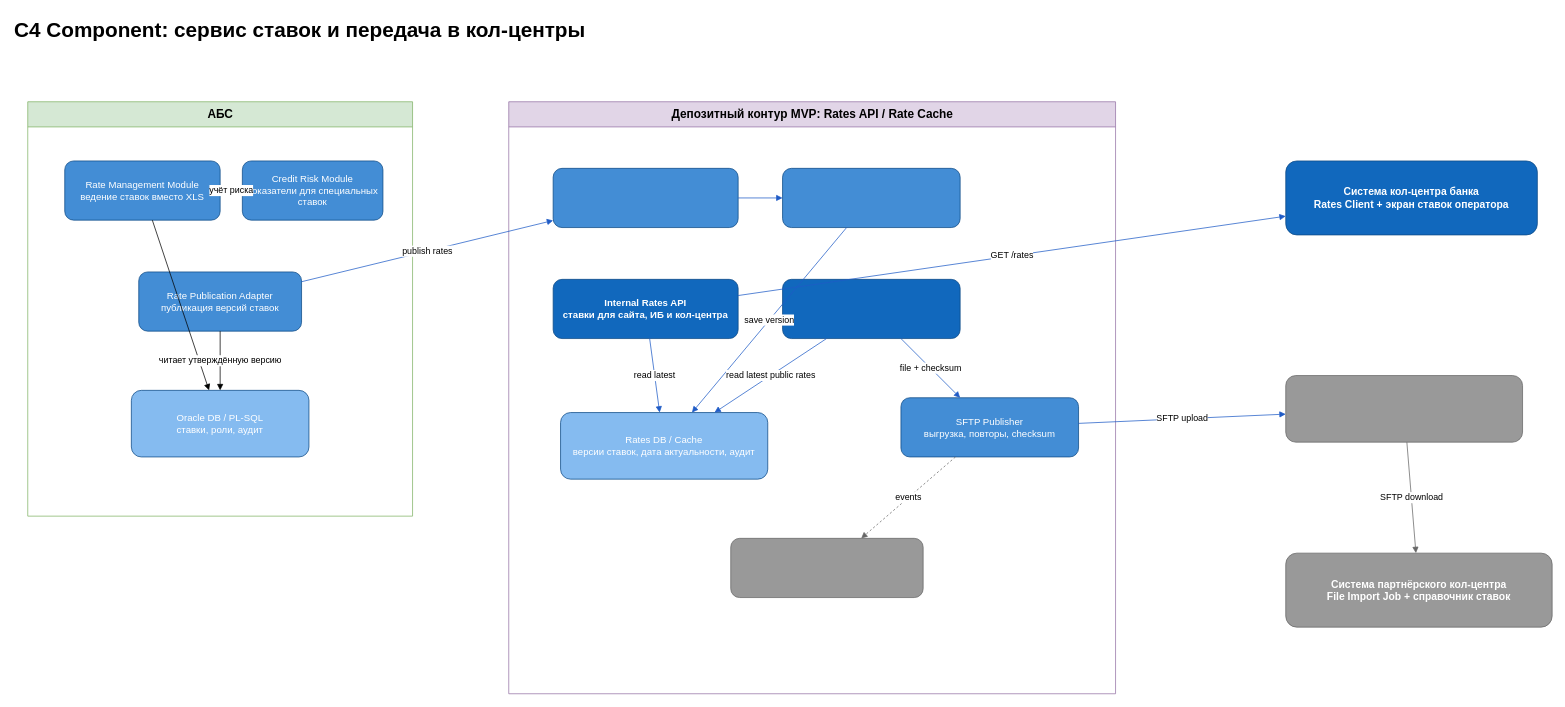
This 1565x707 diagram has some shape labels left out. The shapes that lost their labels are listed below. From the top down, each one's centre as x and y in pixels, then its label:
(x=645, y=198): Rate Ingestion API приём публикации из АБС
(x=871, y=198): Rate Validation проверка версии и полноты данных
(x=871, y=309): Rates Export Job CSV-файл для партнёра
(x=1404, y=408): SFTP Server каталог партнёра, ключи, журнал доступа
(x=826, y=568): Monitoring and Audit алерты, история публикаций
